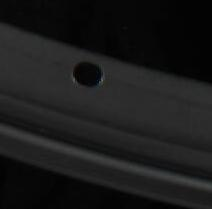holes: (72, 60, 103, 87)
